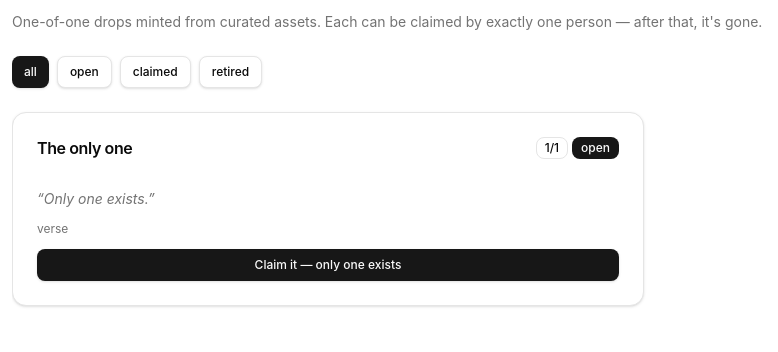
Test: OffersBoard claim outcomes › still shows a real failure as an error
Click the button "Claim it — only one exists": (328, 265) 37,249 -> 619,281
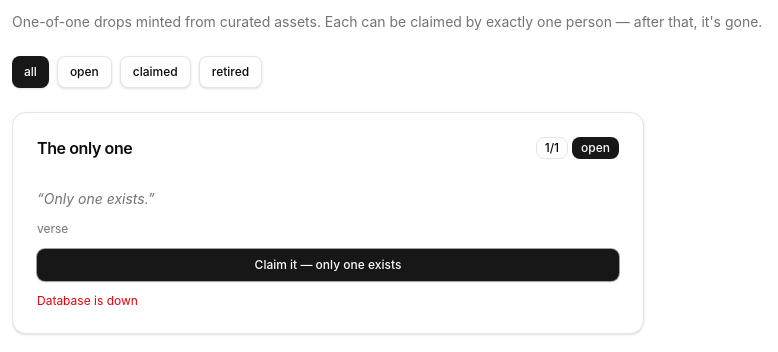
Result: the message reads "Database is down" at 37,293 -> 138,308
